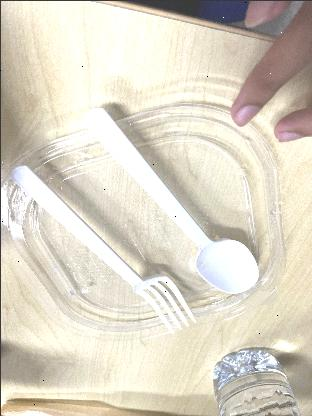Others: (78, 97, 266, 289), (12, 164, 198, 340)
